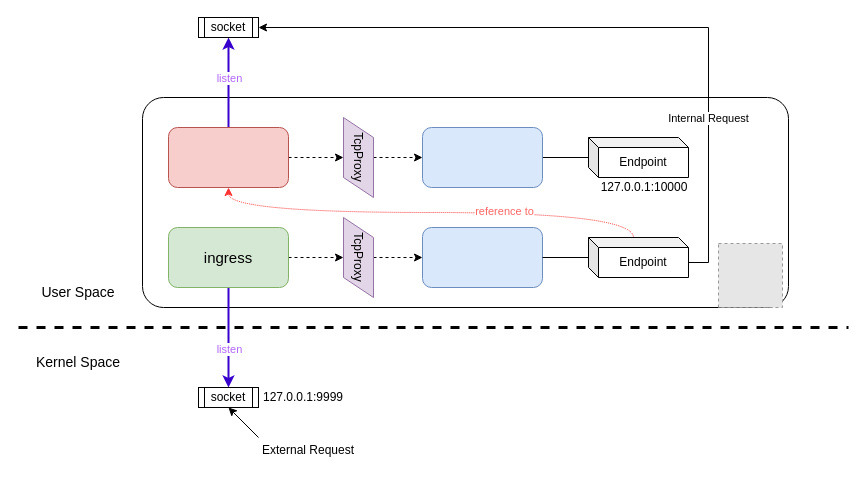
This 868x480 diagram has some shape labels left out. Grey dashed boxes stand in for pictures. Each missing label, with the centre of its shape:
"cluster_0" belongs at pixel 482 157.
"encap" belongs at pixel 228 157.
"encap_cluster" belongs at pixel 482 257.
